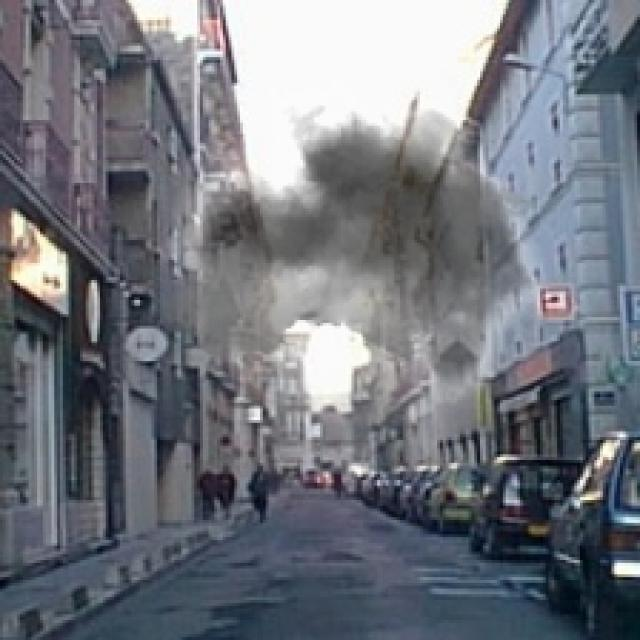smoke: (157, 54, 569, 469)
